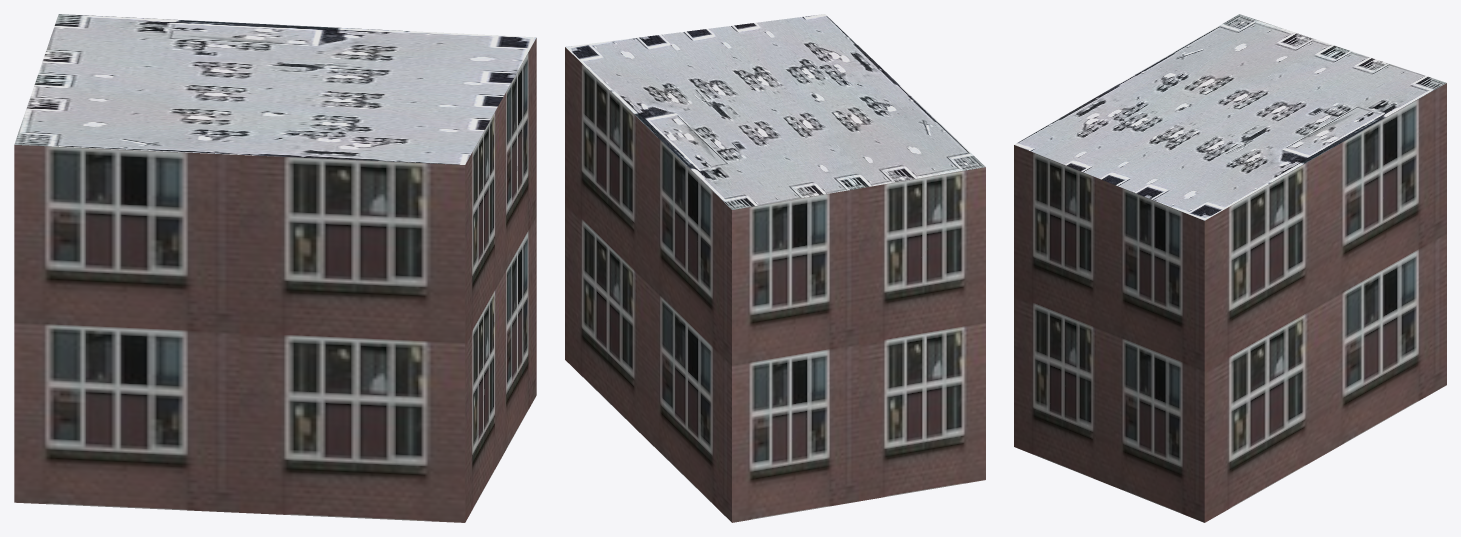
File: ResTex__327.fbx
3 views of the same model, side by side, from view 1: azimuth 30°, elevation 25°; view 2: azimuth 150°, elevation 25°; view 3: azimuth 270°, elevation 25° (orthographic). The views are drawn at different scales.
Parts seen in each view (by area): view 1: CityEngineMaterial_12_m, CityEngineMaterial_8_m; view 2: CityEngineMaterial_12_m, CityEngineMaterial_8_m; view 3: CityEngineMaterial_12_m, CityEngineMaterial_8_m.
Part boxes in pixels (<box>): CityEngineMaterial_12_m: <box>14,38,536,522</box>; CityEngineMaterial_8_m: <box>14,14,536,164</box>; CityEngineMaterial_12_m: <box>565,47,985,522</box>; CityEngineMaterial_8_m: <box>565,14,985,209</box>; CityEngineMaterial_12_m: <box>1014,83,1446,522</box>; CityEngineMaterial_8_m: <box>1014,14,1446,220</box>.
Size of the model in its own units: 8.81 by 6 by 7.79.
2 materials, 2 textured.
